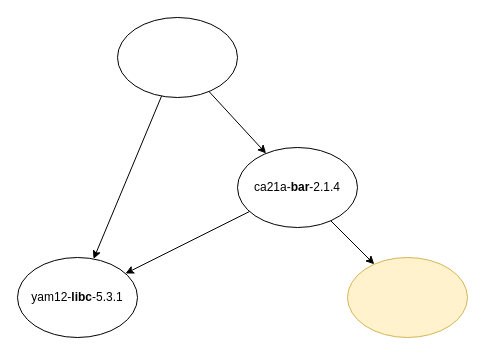
Some shapes in this 485 by 355 pixel diagram are drawn without their labels. The box of each missing label's shape, as (x1, y1, x2, y2) in pixels:
ap21q- foo -1.0: (116, 16, 238, 98)
ro30r- zlib -3.1.2: (346, 256, 468, 338)
